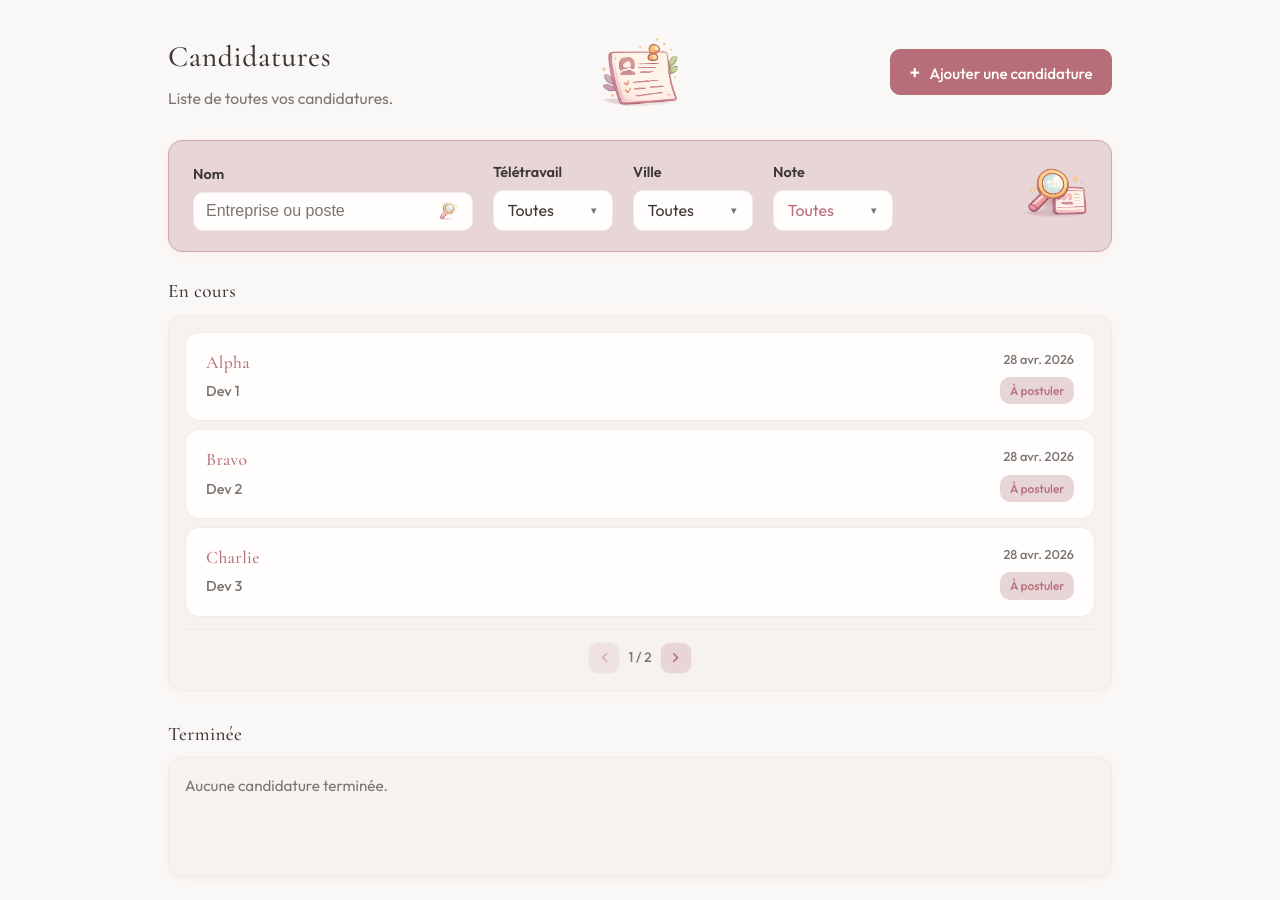
Test: Candidatures interactions › filters candidatures by search text and paginates en cours list
Expected: the text "Alpha" is shown, 206,352 -> 250,372
Expected: the text "Delta" is not shown
Click the button named "Page suivante" at [676, 658], box 660,642 -> 692,674
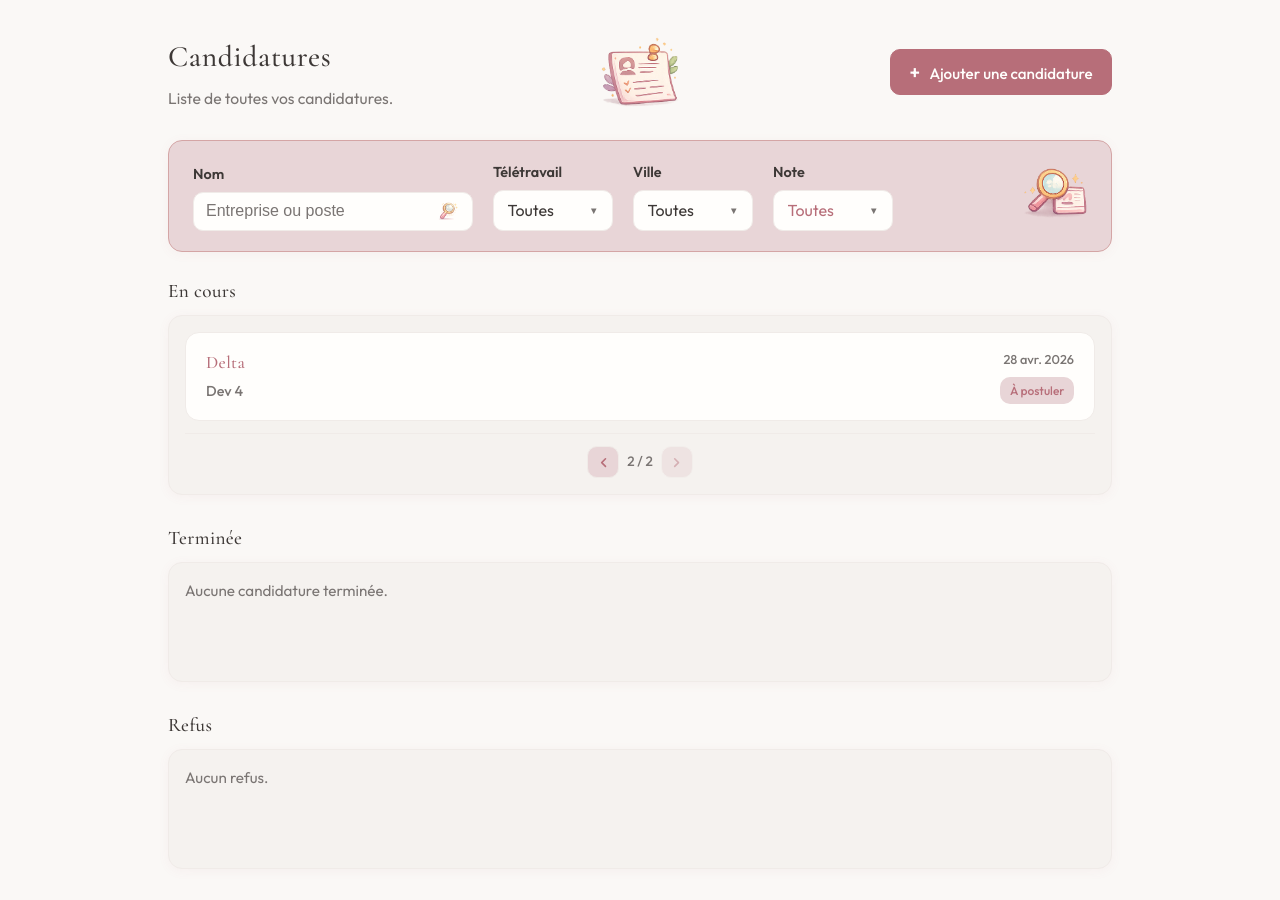
Now the text "Delta" is shown, box 206,352 -> 245,372
Type "char" into the search field with placeholder "Entreprise ou poste" at [317, 211], box 206,193 -> 429,230
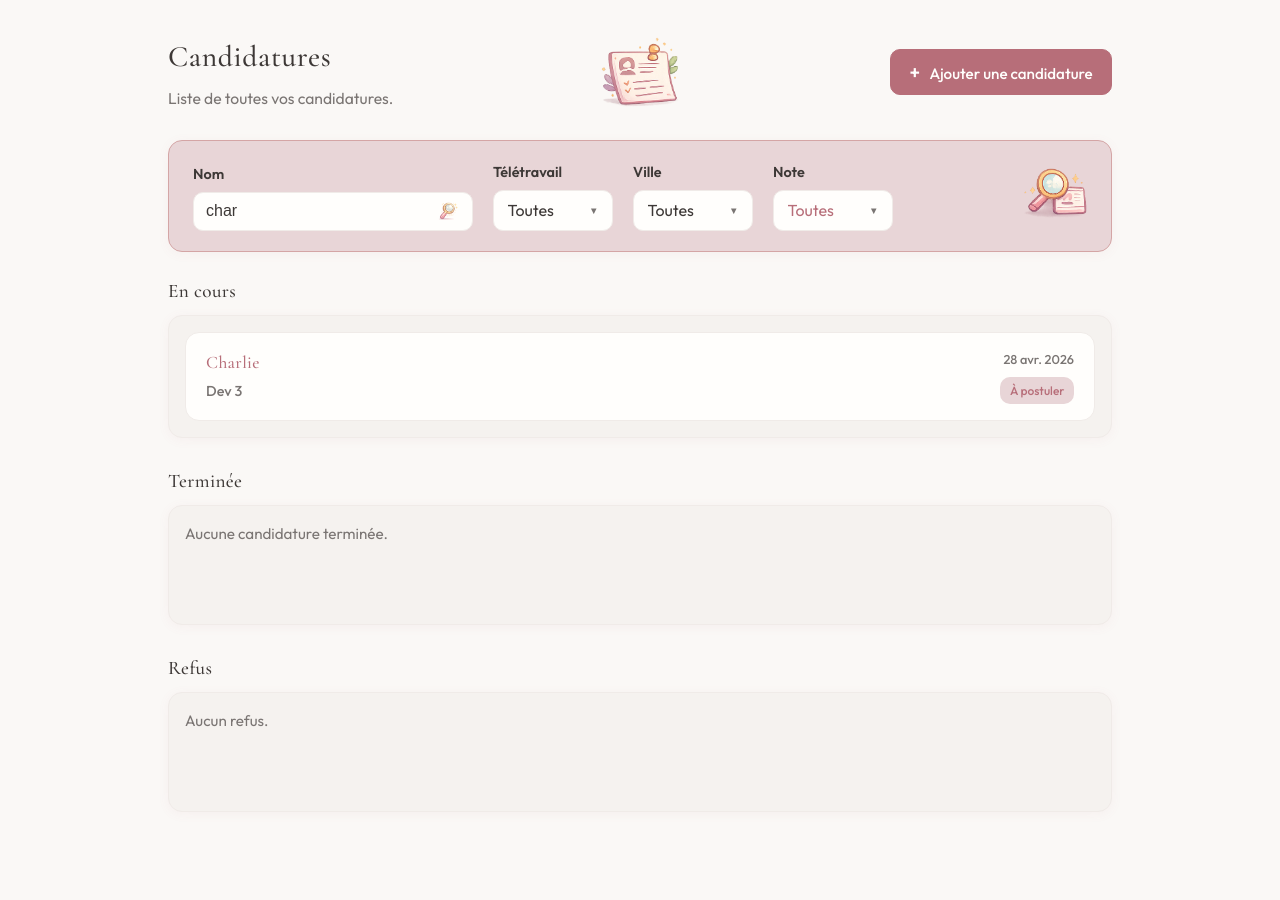
Expected: the link "Alpha" is not shown
Now the text "Charlie" is shown, box 206,352 -> 260,372
